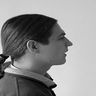ear: (23, 35, 45, 59)
